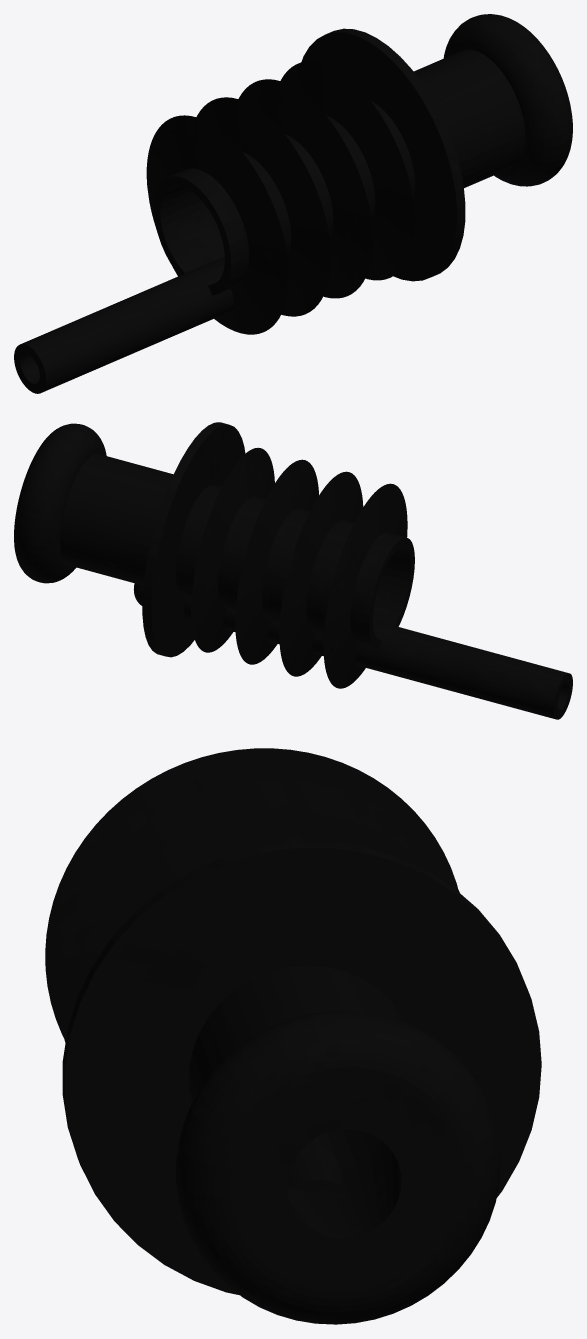
File: WineRender.glb
3 views of the same model, one above another, from view 1: azimuth 30°, elevation 25°; view 2: azimuth 150°, elevation 25°; view 3: azimuth 270°, elevation 25° (orthographic). The views are drawn at different scales.
Visible parts, largest first — view 1: body_n3d; view 2: body_n3d; view 3: body_n3d.
Boxes of the visible parts, x1,y1,x2,y2 form: body_n3d: (14, 14, 572, 393); body_n3d: (14, 422, 572, 719); body_n3d: (45, 748, 541, 1324).
Bounding box in the file's own units: 0.6 × 0.2549 × 0.258.
Materials: 1 (1 with a texture image).
